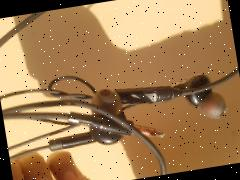electronic: (25, 5, 194, 180)
